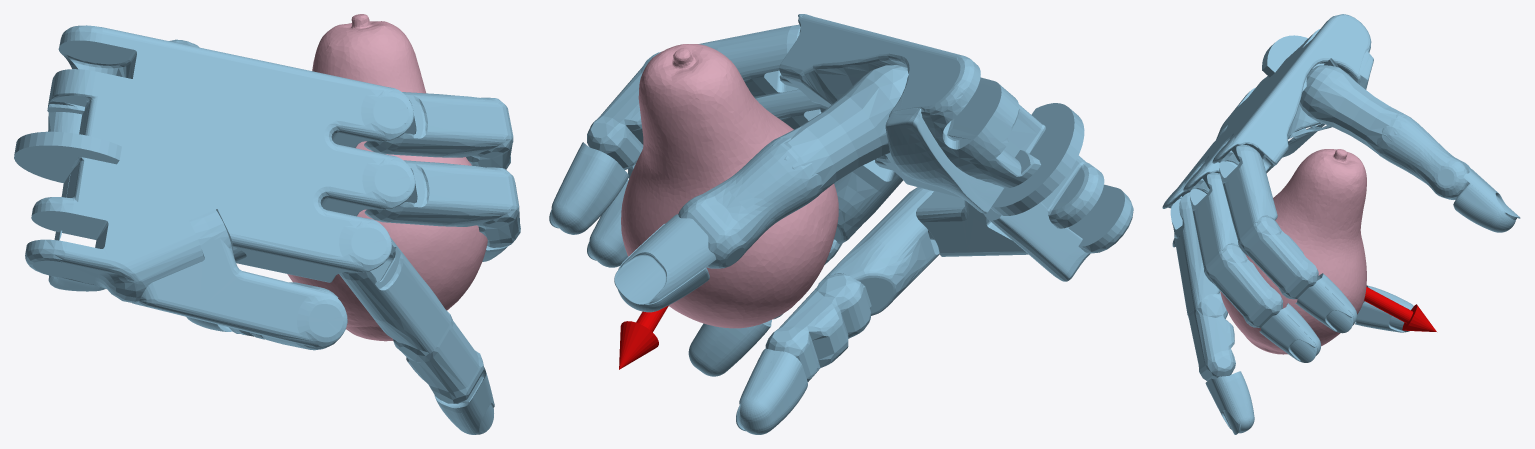
The picture shows the model from 3 angles, left to right: view 1: azimuth 30°, elevation 25°; view 2: azimuth 150°, elevation 25°; view 3: azimuth 270°, elevation 25°; orthographic projection. The views are drawn at different scales.
Parts seen in each view (by area): view 1: world, pear.stl; view 2: world, pear.stl; view 3: world, pear.stl.
Boxes of the visible parts, <box> form: world: <box>14,25,520,434</box>; pear.stl: <box>287,14,487,341</box>; world: <box>549,14,1133,434</box>; pear.stl: <box>621,44,838,328</box>; world: <box>1162,14,1520,434</box>; pear.stl: <box>1220,149,1366,354</box>.
Bounding box in the file's own units: 0.1836 × 0.1504 × 0.1586.
